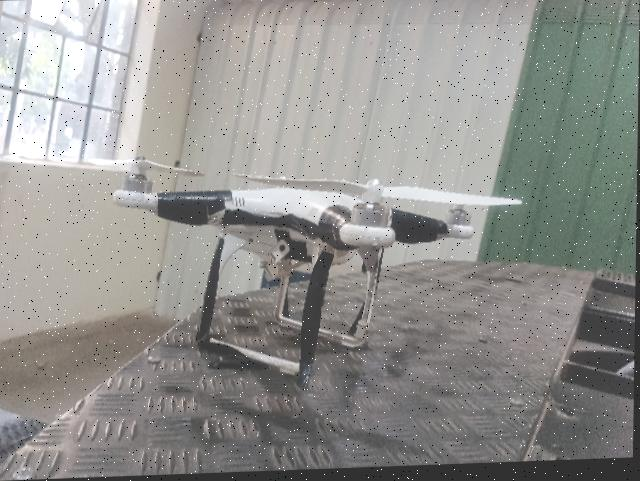drone: (81, 130, 549, 408)
